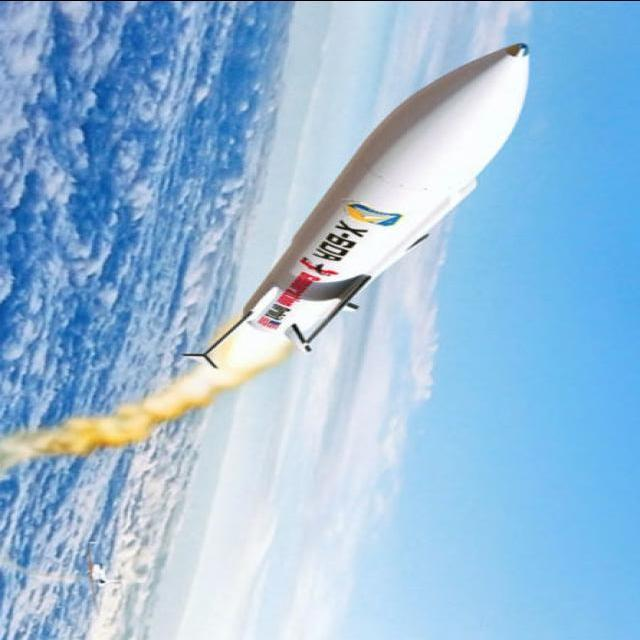Missile: (234, 31, 559, 368)
